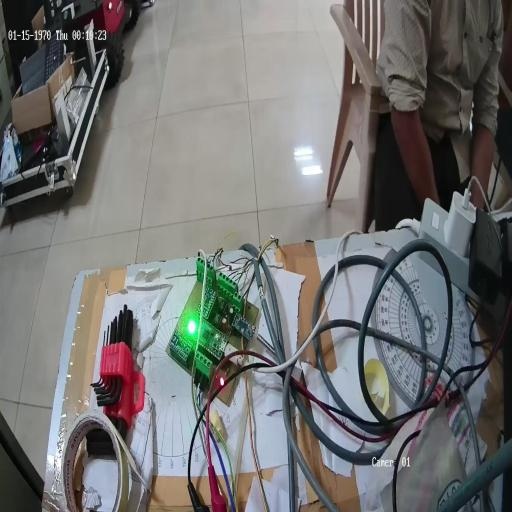laser: (185, 312, 198, 339)
